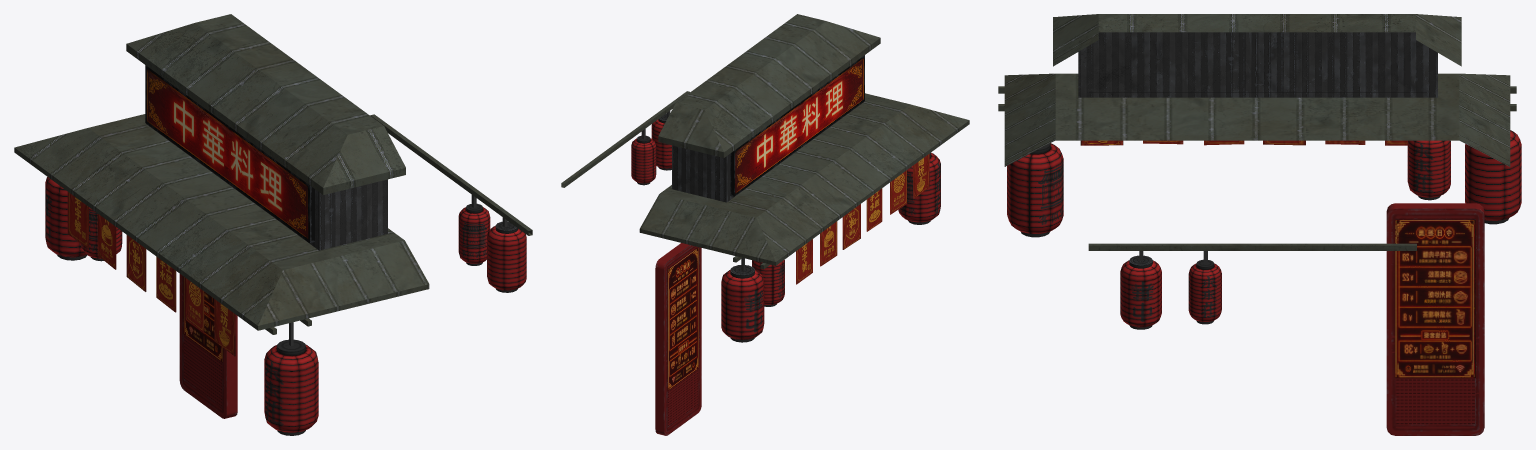
The model's file is CP_Asian_Shop.fbx.
The picture shows the model from 3 angles, left to right: view 1: azimuth 30°, elevation 25°; view 2: azimuth 150°, elevation 25°; view 3: azimuth 270°, elevation 25°; orthographic projection. The views are drawn at different scales.
Visible parts, largest first — view 1: CP_Asian_Shop_LOD0; view 2: CP_Asian_Shop_LOD0; view 3: CP_Asian_Shop_LOD0.
Boxes of the visible parts, left/top/right/bottom form: CP_Asian_Shop_LOD0: left=14, top=14, right=532, bottom=435; CP_Asian_Shop_LOD0: left=561, top=14, right=969, bottom=435; CP_Asian_Shop_LOD0: left=998, top=14, right=1521, bottom=435.
Size of what is drawn, in the model's own units: 337 by 381 by 444.
